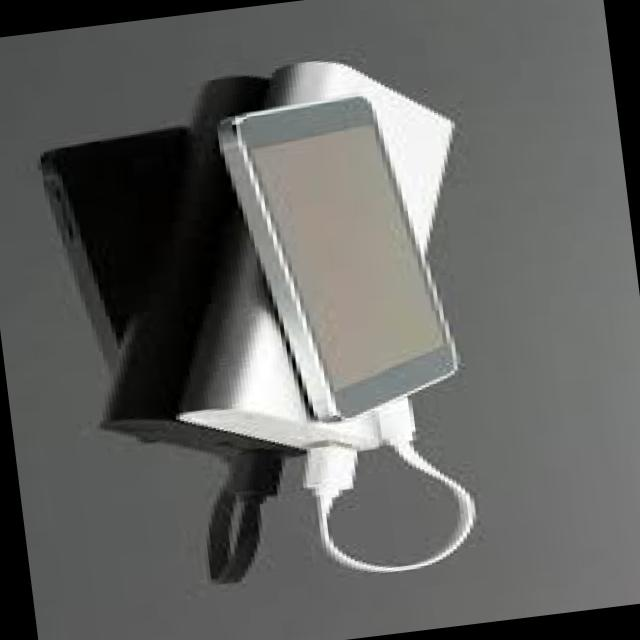portable-charger: (89, 36, 504, 486)
